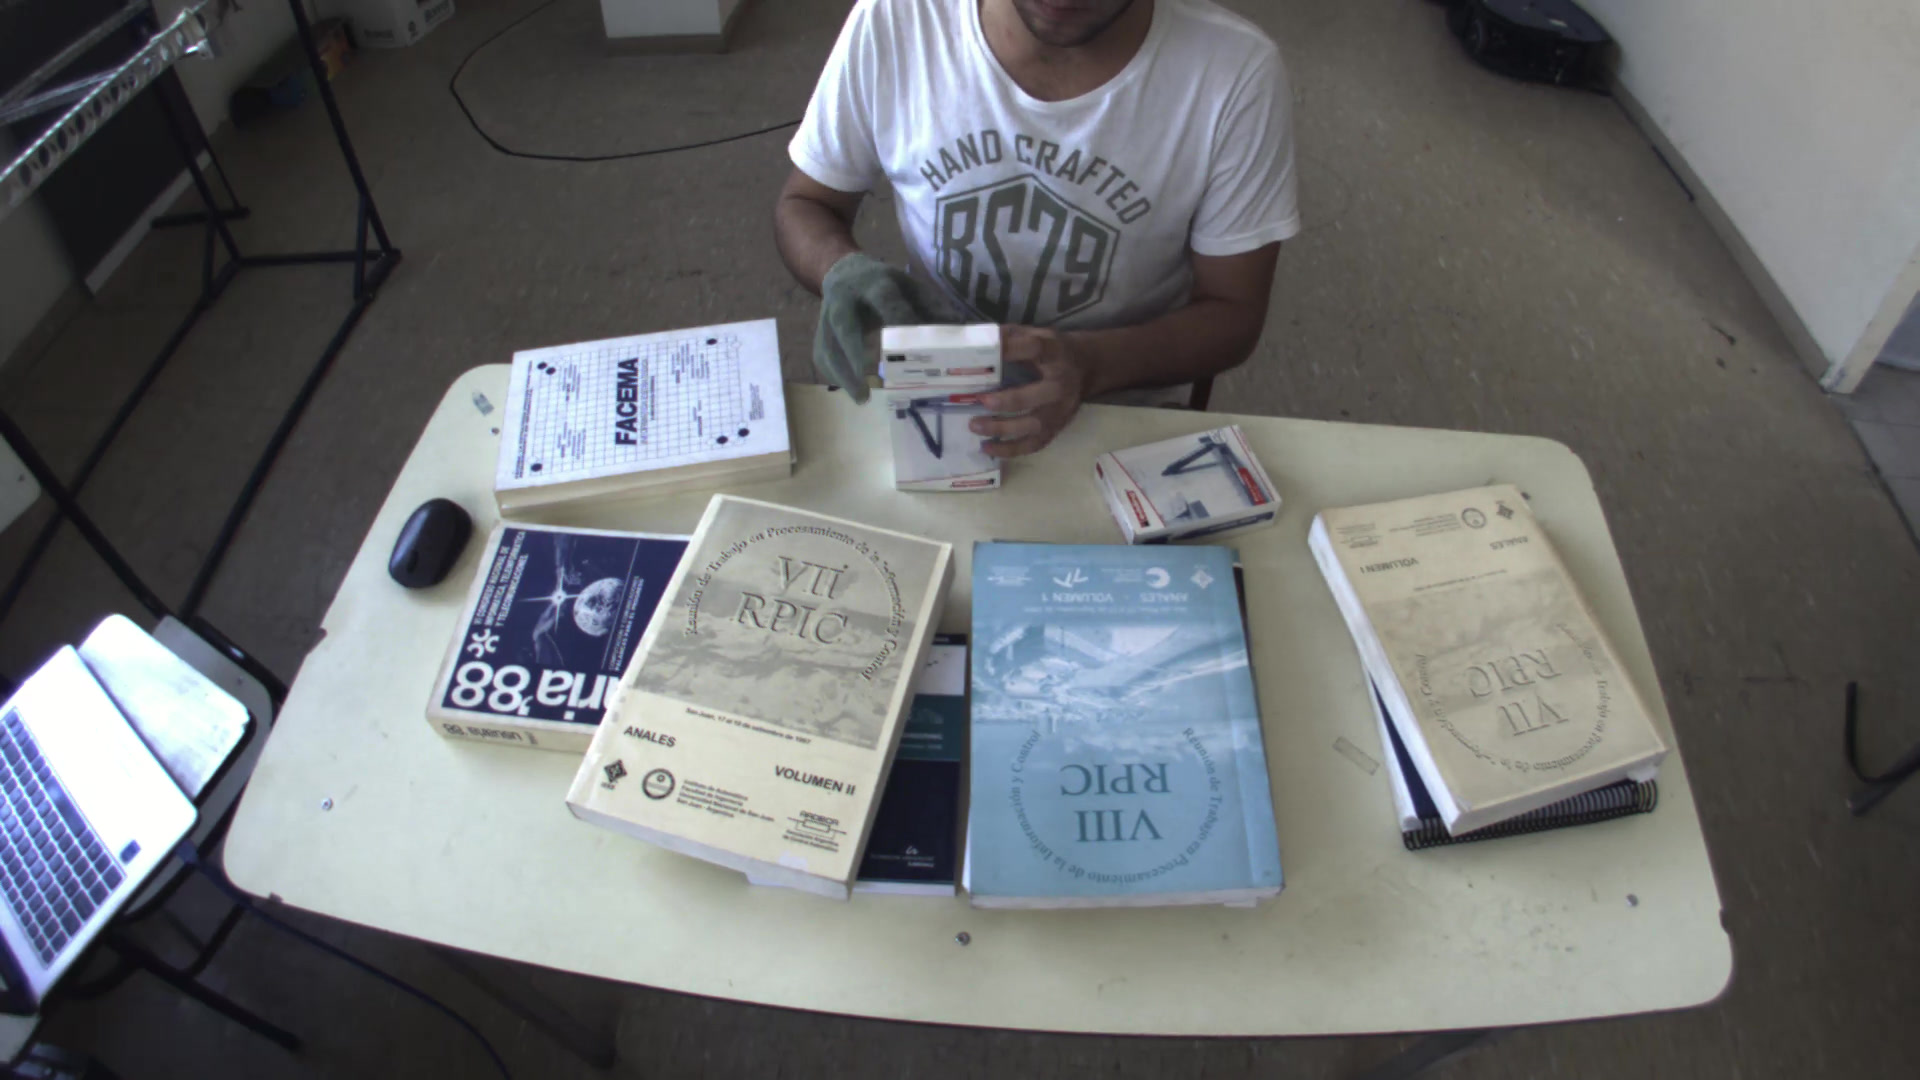hand: (802, 239, 942, 398), (949, 316, 1092, 469)
